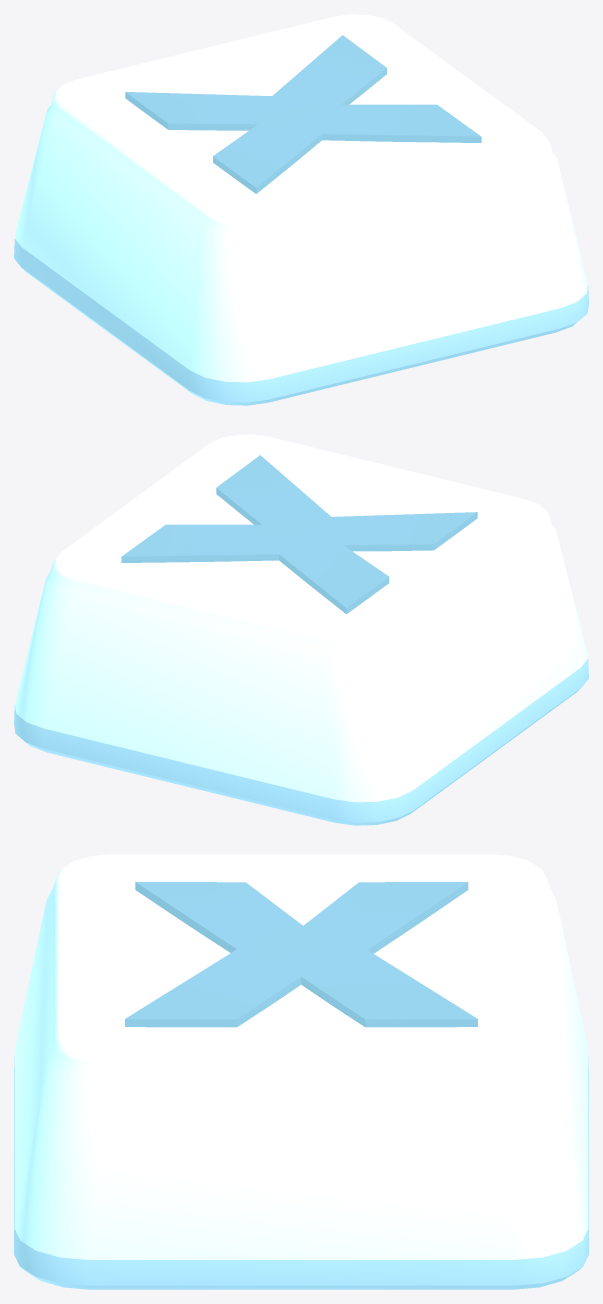
File: props__Key_X.glb
3 renders of one model, top to bottom at view 1: azimuth 30°, elevation 25°; view 2: azimuth 150°, elevation 25°; view 3: azimuth 270°, elevation 25°, orthographic. The views are drawn at different scales.
Visible parts, largest first — view 1: Key_X; view 2: Key_X; view 3: Key_X.
Boxes of the visible parts, <box> form: Key_X: <box>14,14,588,405</box>; Key_X: <box>14,434,588,825</box>; Key_X: <box>14,854,588,1289</box>.
Size of the model in its own units: 3.9 by 1.65 by 3.9.
